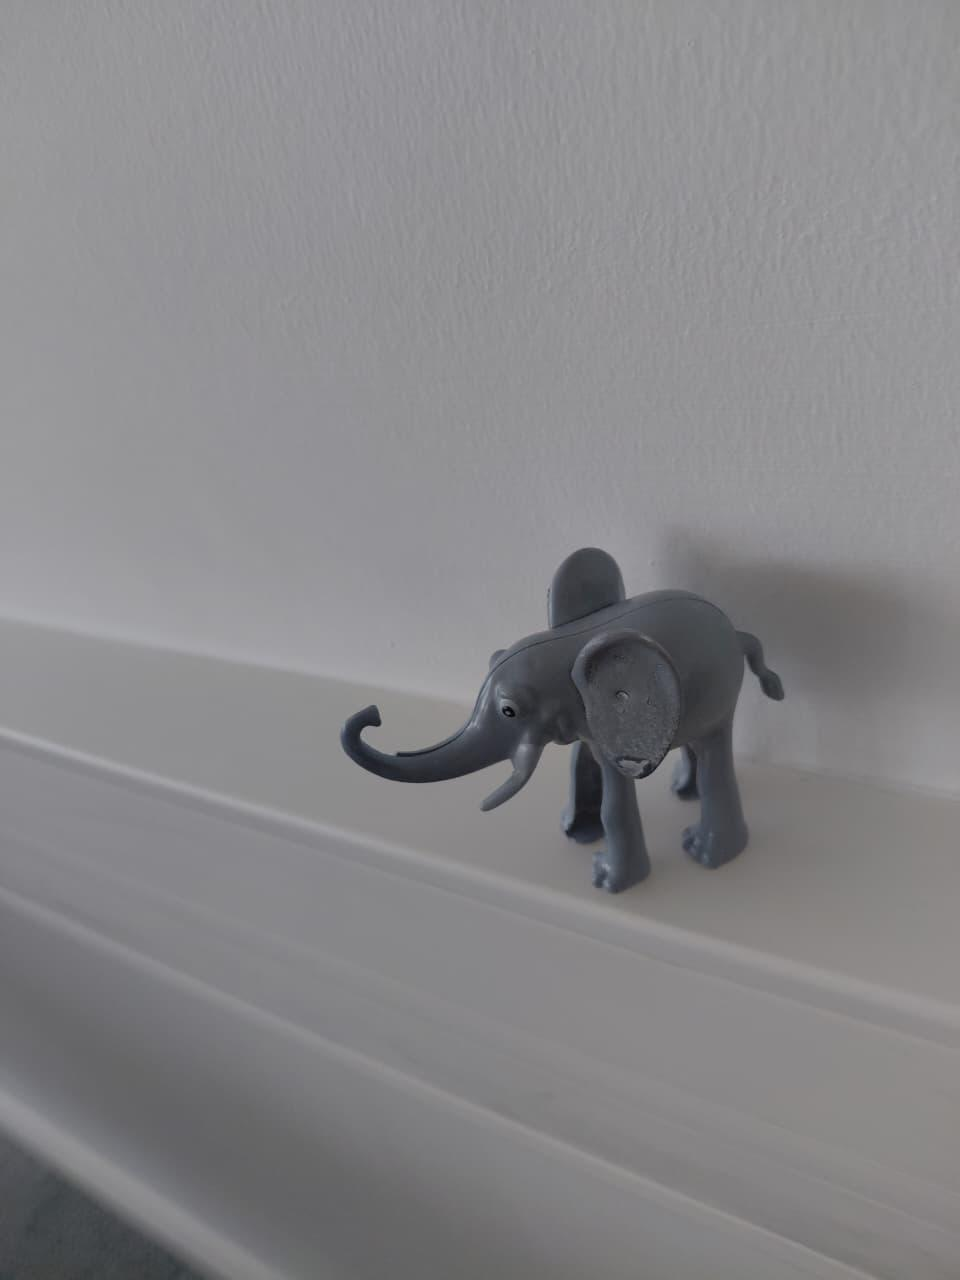elephant: (315, 523, 838, 954)
